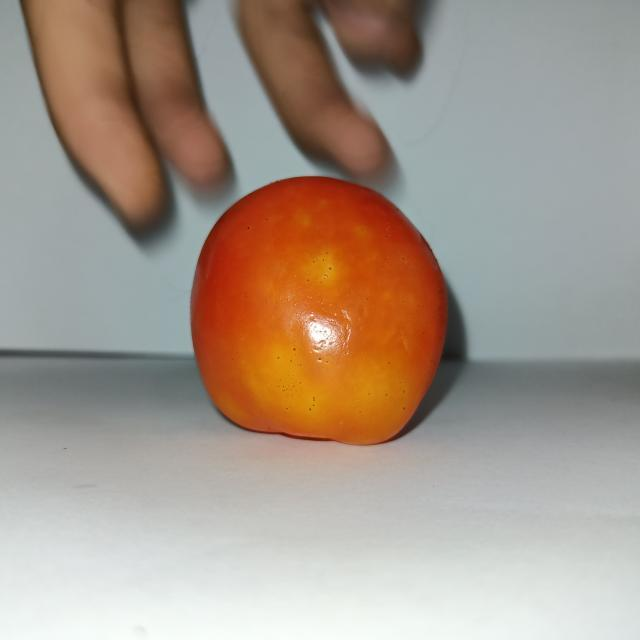Red: (188, 174, 449, 446)
